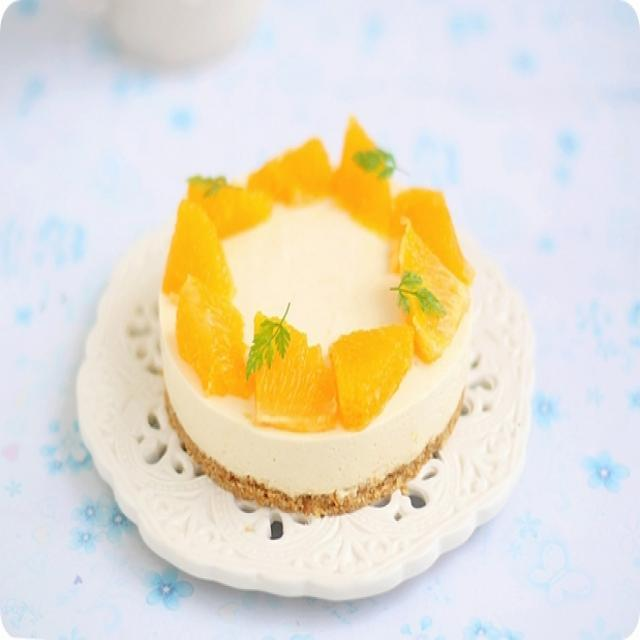Rare cheese cake: (101, 126, 533, 562)
